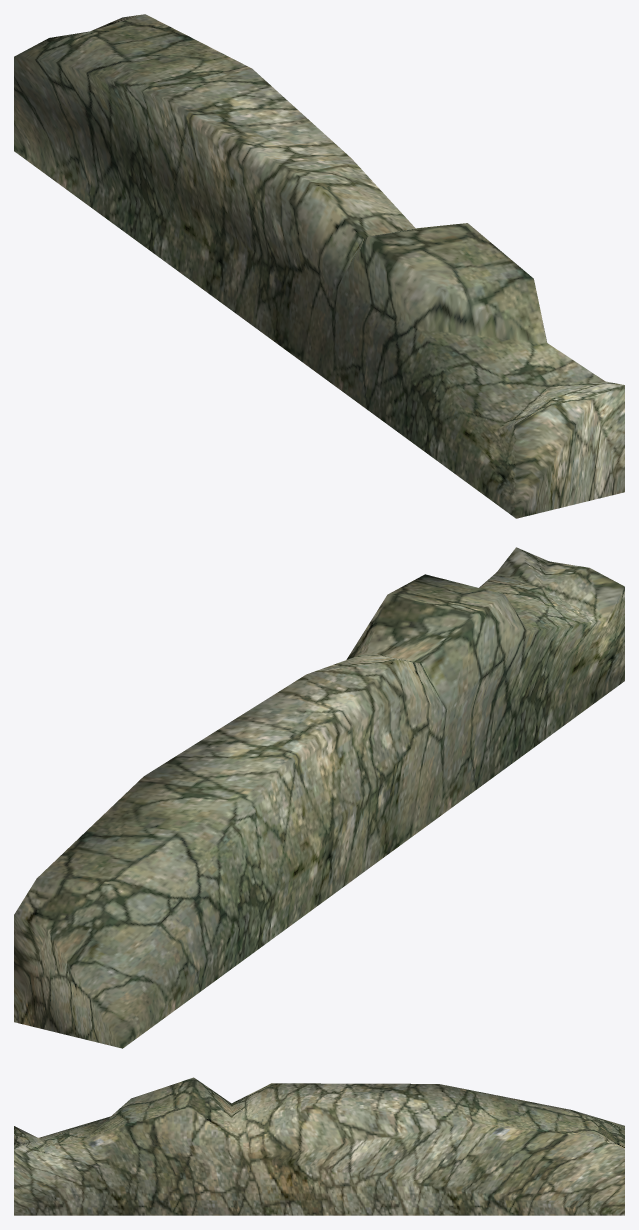
Rendered from thm_nboo_gungan_wall_ruined_sm_s02_l1.fbx.
3 views of the same model, one above another, from view 1: azimuth 30°, elevation 25°; view 2: azimuth 150°, elevation 25°; view 3: azimuth 270°, elevation 25° (orthographic). The views are drawn at different scales.
Parts seen in each view (by area): view 1: mesh_node; view 2: mesh_node; view 3: mesh_node.
Boxes of the visible parts, box(x1,y1,x2,y2) form: mesh_node: box(14, 14, 624, 518); mesh_node: box(14, 547, 624, 1048); mesh_node: box(14, 1077, 624, 1215).
Size of the model in its own units: 0.5 by 0.7643 by 4.
